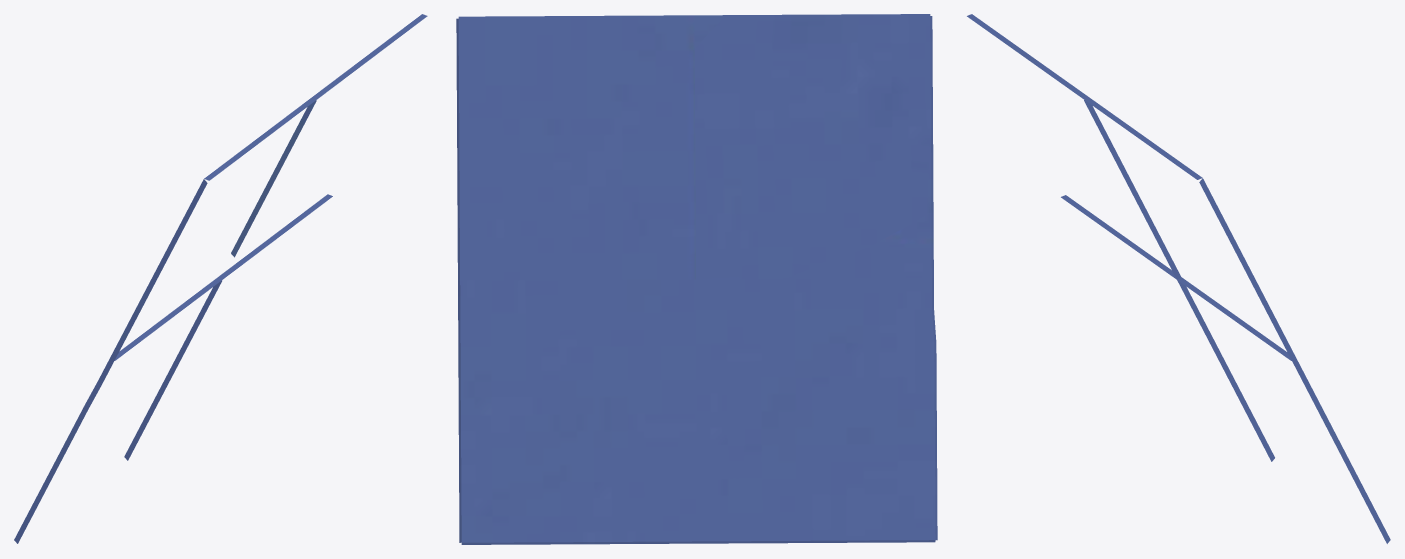
The picture shows the model from 3 angles, left to right: view 1: azimuth 30°, elevation 25°; view 2: azimuth 150°, elevation 25°; view 3: azimuth 270°, elevation 25°; orthographic projection. The views are drawn at different scales.
Bounding box in the file's own units: 39543 × 35625 × 33170.
1 material, 1 textured.
